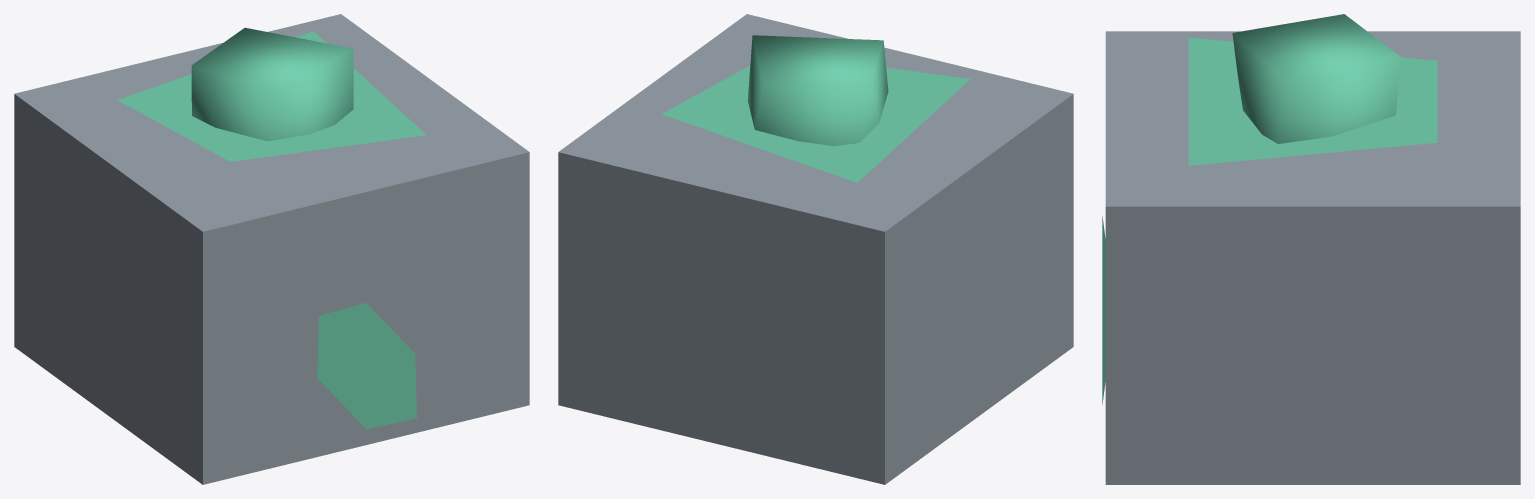
File: CO_AATurret_LOD2.glb
3 views of the same model, side by side, from view 1: azimuth 30°, elevation 25°; view 2: azimuth 150°, elevation 25°; view 3: azimuth 270°, elevation 25° (orthographic). The views are drawn at different scales.
Visible parts, largest first — view 1: EntranceGate; view 2: EntranceGate; view 3: EntranceGate.
Boxes of the visible parts, x1,y1,x2,y2 form: EntranceGate: (14, 14, 529, 484); EntranceGate: (558, 14, 1073, 484); EntranceGate: (1102, 14, 1520, 484).
Bounding box in the file's own units: 400 × 370 × 403.
